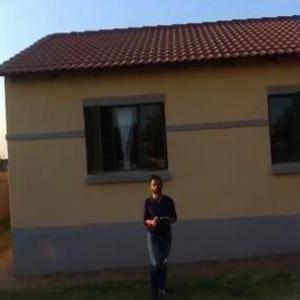follow: (140, 167, 183, 299)
